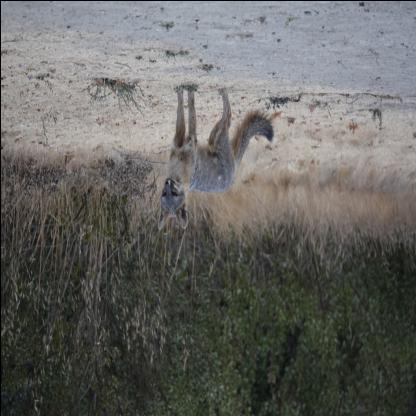zorro: (154, 84, 275, 230)
